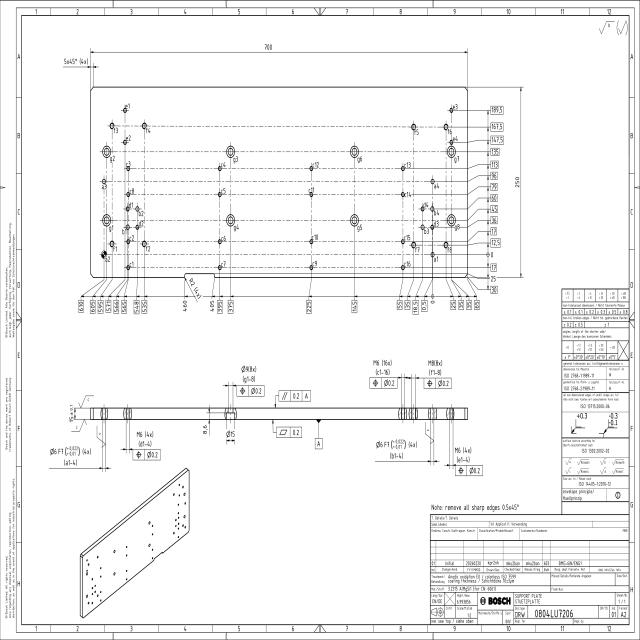dimension: (49, 445, 92, 467), (375, 438, 418, 460), (186, 276, 202, 301), (372, 358, 393, 376), (453, 446, 472, 464), (136, 430, 154, 448), (241, 364, 257, 383), (428, 359, 443, 376), (64, 58, 88, 66), (490, 105, 504, 115), (490, 122, 504, 132), (490, 135, 504, 145), (420, 300, 428, 314), (412, 300, 420, 314), (490, 238, 501, 248), (225, 430, 236, 439), (141, 300, 148, 314), (133, 300, 140, 314), (113, 300, 120, 314), (105, 300, 112, 314), (97, 300, 104, 314), (69, 404, 74, 423), (264, 42, 273, 52), (490, 160, 500, 169), (352, 300, 358, 314), (306, 300, 312, 314), (228, 300, 234, 314), (217, 300, 223, 314), (121, 300, 127, 314), (90, 300, 96, 314), (490, 148, 500, 156), (490, 182, 498, 192), (490, 193, 498, 203), (490, 204, 498, 214), (490, 226, 498, 236), (78, 300, 84, 313), (514, 176, 520, 188), (490, 171, 498, 180), (490, 274, 498, 283), (490, 285, 498, 294), (209, 300, 215, 312), (182, 300, 188, 312), (404, 300, 411, 310), (396, 300, 403, 310), (202, 424, 208, 435), (490, 216, 498, 224), (490, 263, 497, 272), (474, 300, 480, 310), (466, 300, 472, 310), (458, 300, 464, 310), (451, 300, 456, 310), (490, 250, 495, 259), (430, 300, 436, 306)
